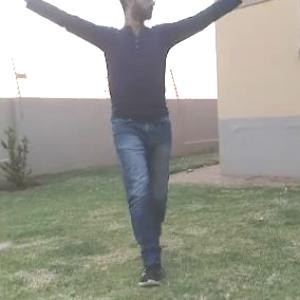takeoff: (3, 0, 258, 287)
